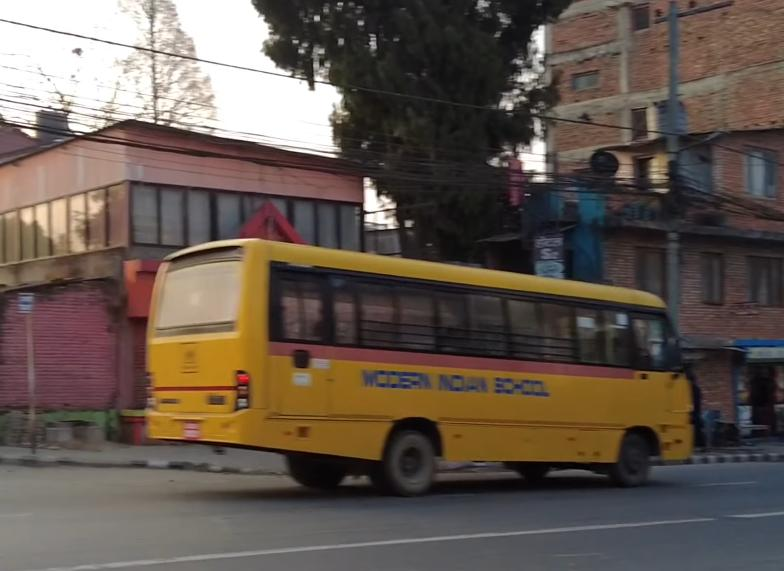school_bus: (138, 232, 700, 512)
